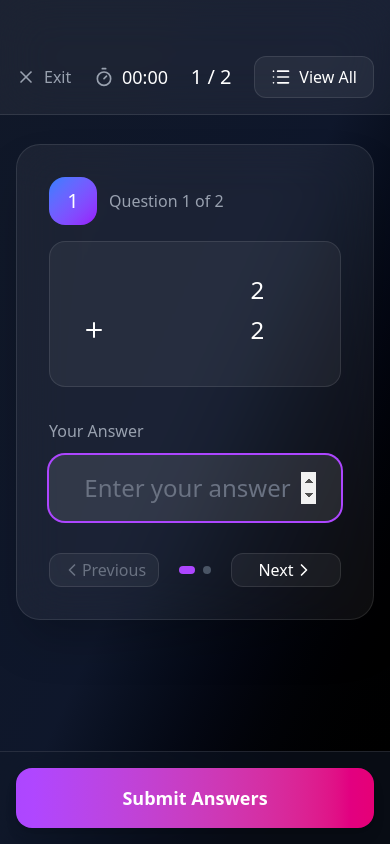
RegularGame › reviews wrong and unanswered questions after submit
Expected: the heading "Question 1 of 2" is shown, [109,189,224,213]
In the number field with placeholder "Enter your answer": (195, 488) [49,455,341,521], type "99"
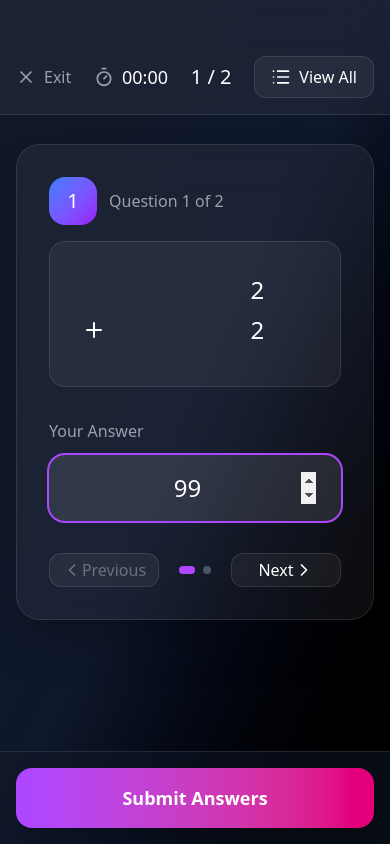
Click the button "Submit Answers": (195, 798) [16,768,374,828]
(page scrolled)
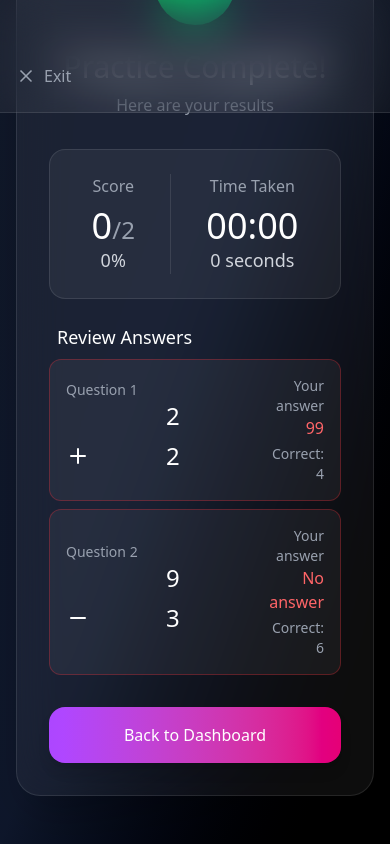
Result: the heading "Practice Complete!" is shown at [49,49,341,85]
Result: the text "0%" is shown at [101,248,126,272]
Result: the text "99" is shown at [306,417,324,439]
